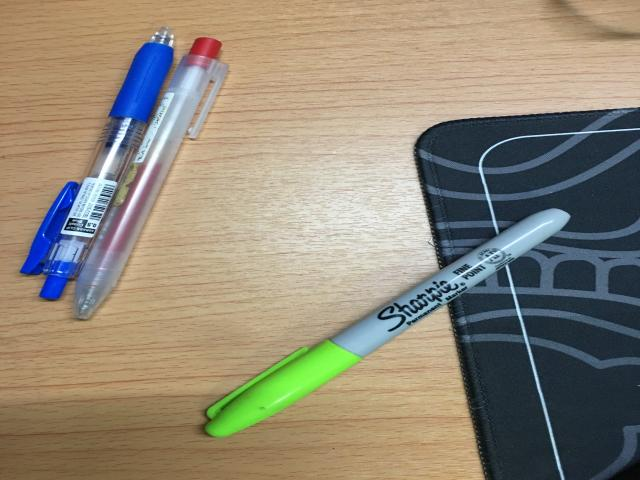Pen: (205, 209, 570, 437), (20, 27, 228, 321)
